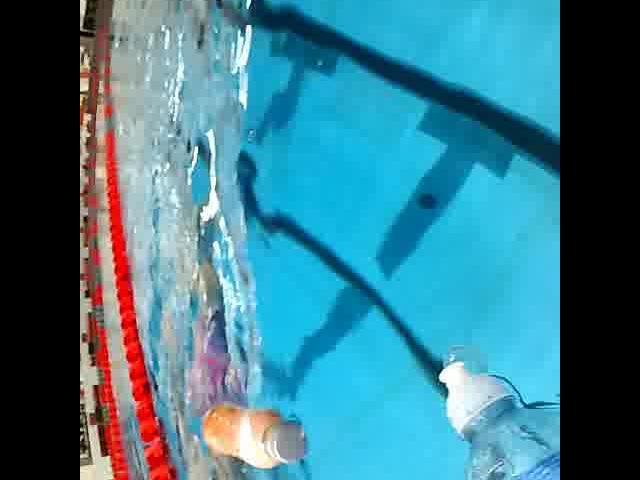Bottle: (432, 350, 560, 480), (196, 398, 314, 471)
